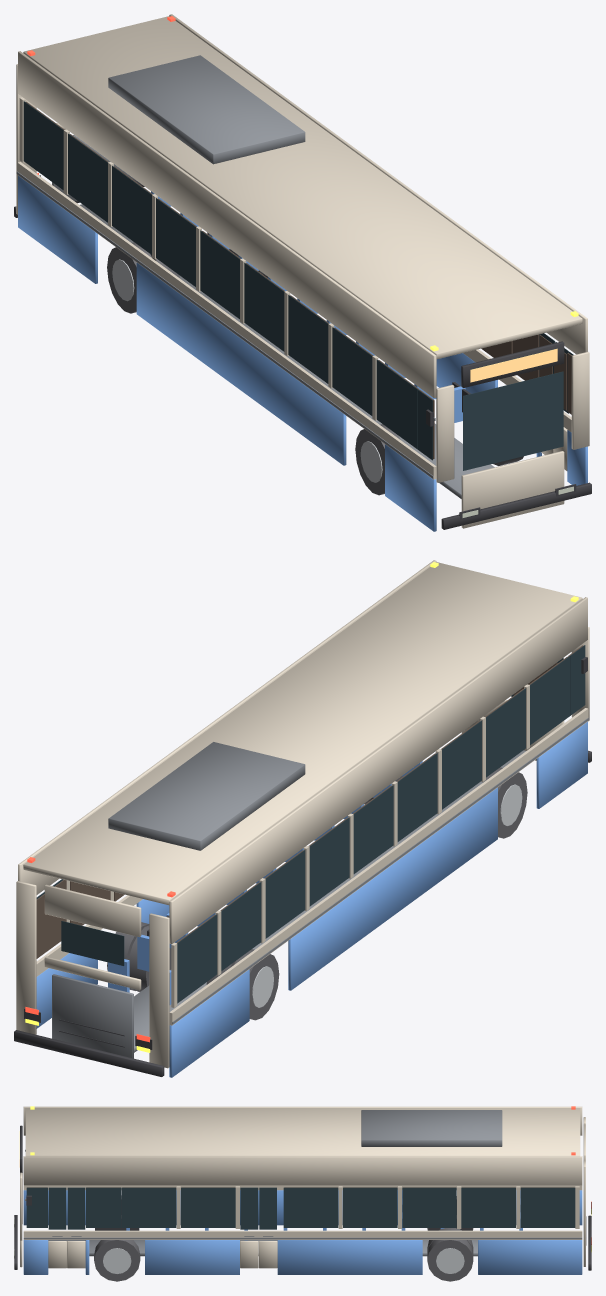
The model's file is Bus_City40_25.fbx.
The picture shows the model from 3 angles, top to bottom: view 1: azimuth 30°, elevation 25°; view 2: azimuth 150°, elevation 25°; view 3: azimuth 270°, elevation 25°; orthographic projection. The views are drawn at different scales.
Parts seen in each view (by area): view 1: LOD0; view 2: LOD0; view 3: LOD0.
Part boxes in pixels (bbox=[...]): LOD0: bbox=[14, 14, 591, 531]; LOD0: bbox=[14, 560, 591, 1077]; LOD0: bbox=[14, 1106, 591, 1281].
Size of what is drawn, in the model's own units: 264 by 320 by 1250.
